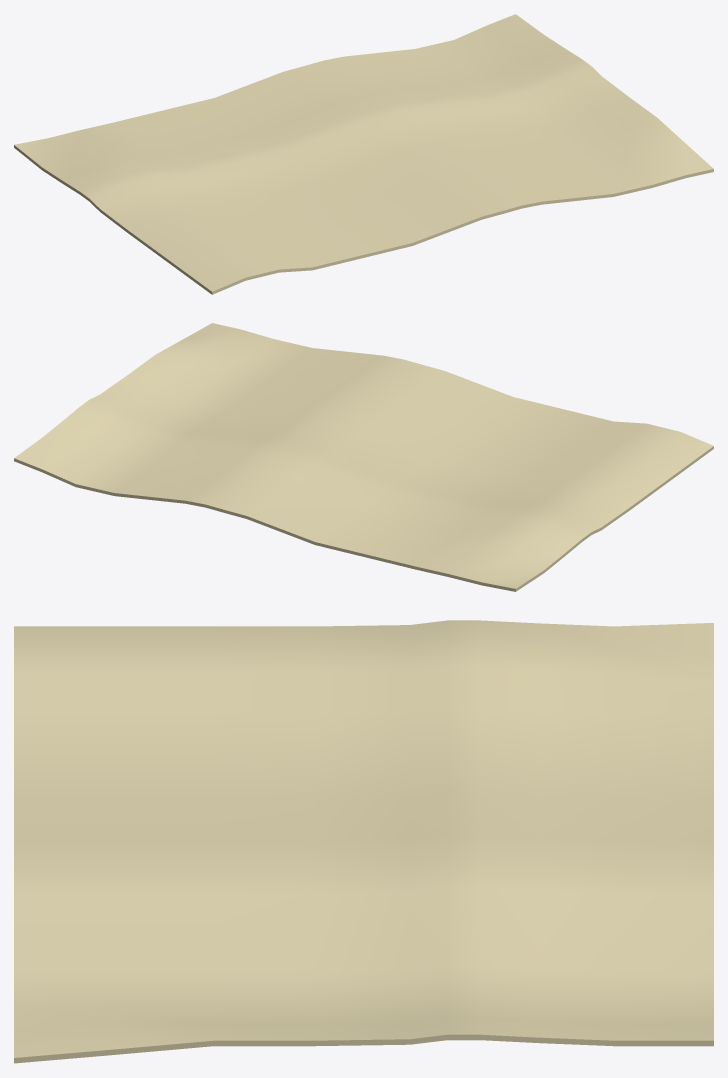
Rendered from Letter.fbx.
3 views of the same model, one above another, from view 1: azimuth 30°, elevation 25°; view 2: azimuth 150°, elevation 25°; view 3: azimuth 270°, elevation 25° (orthographic). The views are drawn at different scales.
Parts seen in each view (by area): view 1: Plane; view 2: Plane; view 3: Plane.
Boxes of the visible parts, <box> form: Plane: <box>14,14,713,294</box>; Plane: <box>14,323,713,591</box>; Plane: <box>14,620,713,1063</box>.
Bounding box in the file's own units: 200 × 6.73 × 137.
